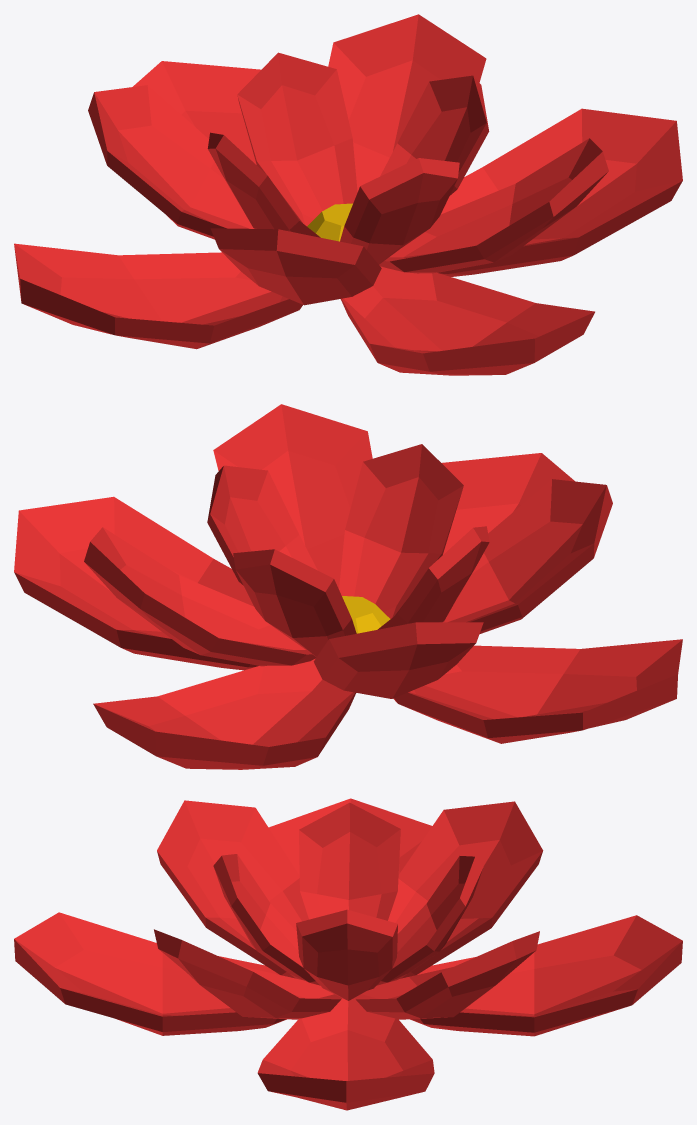
Rendered from FRED.fbx.
3 renders of one model, top to bottom at view 1: azimuth 30°, elevation 25°; view 2: azimuth 150°, elevation 25°; view 3: azimuth 270°, elevation 25°, orthographic. The views are drawn at different scales.
Visible parts, largest first — view 1: pCube21 (×6), pCube22 (×6), yellow_gem; view 2: pCube22 (×6), pCube21 (×6), yellow_gem; view 3: pCube22 (×6), pCube21 (×6).
Part boxes in pixels (left/top/right/bottom): pCube21 (×6): left=14, top=75, right=682, bottom=349; pCube22 (×6): left=133, top=14, right=594, bottom=375; yellow_gem: left=307, top=203, right=352, bottom=241; pCube22 (×6): left=84, top=444, right=612, bottom=769; pCube21 (×6): left=14, top=404, right=682, bottom=743; yellow_gem: left=342, top=596, right=390, bottom=633; pCube22 (×6): left=14, top=800, right=682, bottom=1036; pCube21 (×6): left=154, top=798, right=543, bottom=1110.
Size of the model in its own units: 41.24 by 11.69 by 41.24.
